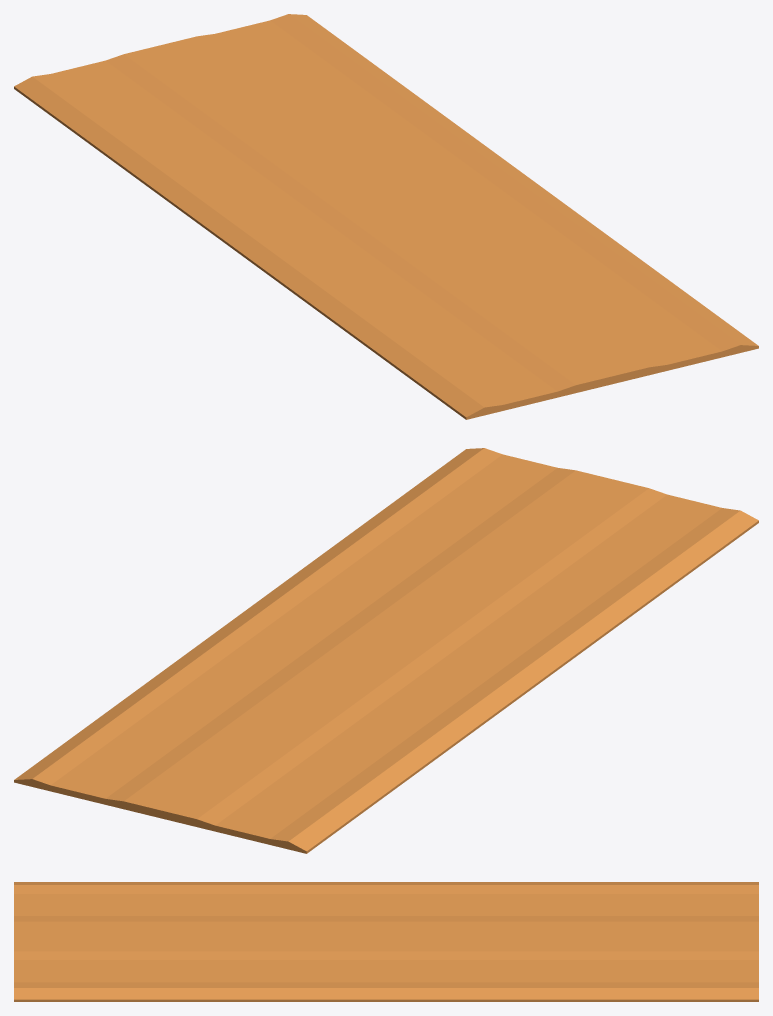
Rendered from CampoRuedaTractor.fbx.
3 renders of one model, top to bottom at view 1: azimuth 30°, elevation 25°; view 2: azimuth 150°, elevation 25°; view 3: azimuth 270°, elevation 25°, orthographic. The views are drawn at different scales.
Visible parts, largest first — view 1: Cube.005; view 2: Cube.005; view 3: Cube.005.
Part boxes in pixels (x1,y1,x2,y2): Cube.005: [14, 14, 758, 419]; Cube.005: [14, 448, 758, 853]; Cube.005: [14, 882, 758, 1001].
Bounding box in the file's own units: 868 × 22.5 × 2322.
